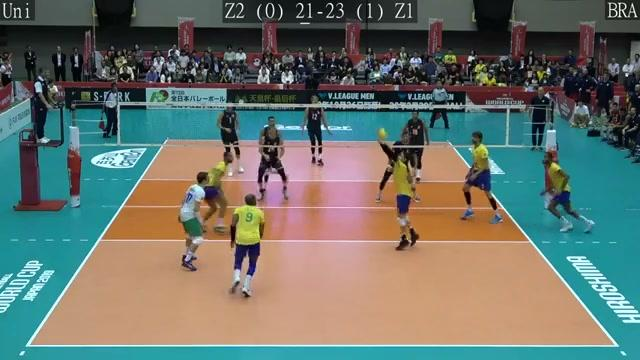ball: (378, 126, 390, 139)
